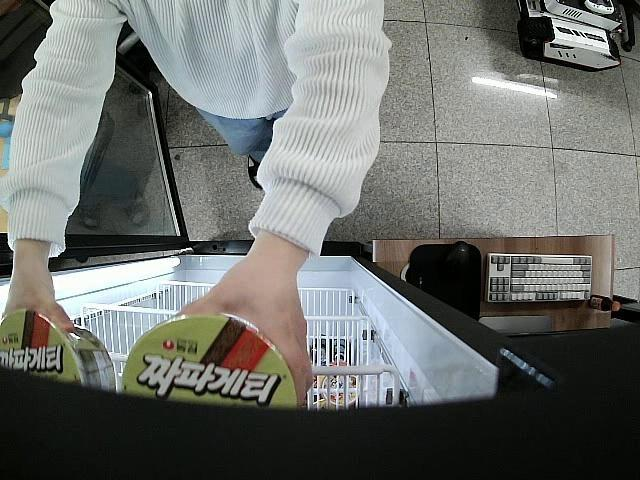03_chapagetti_L: (120, 312, 300, 415), (0, 305, 118, 404)
